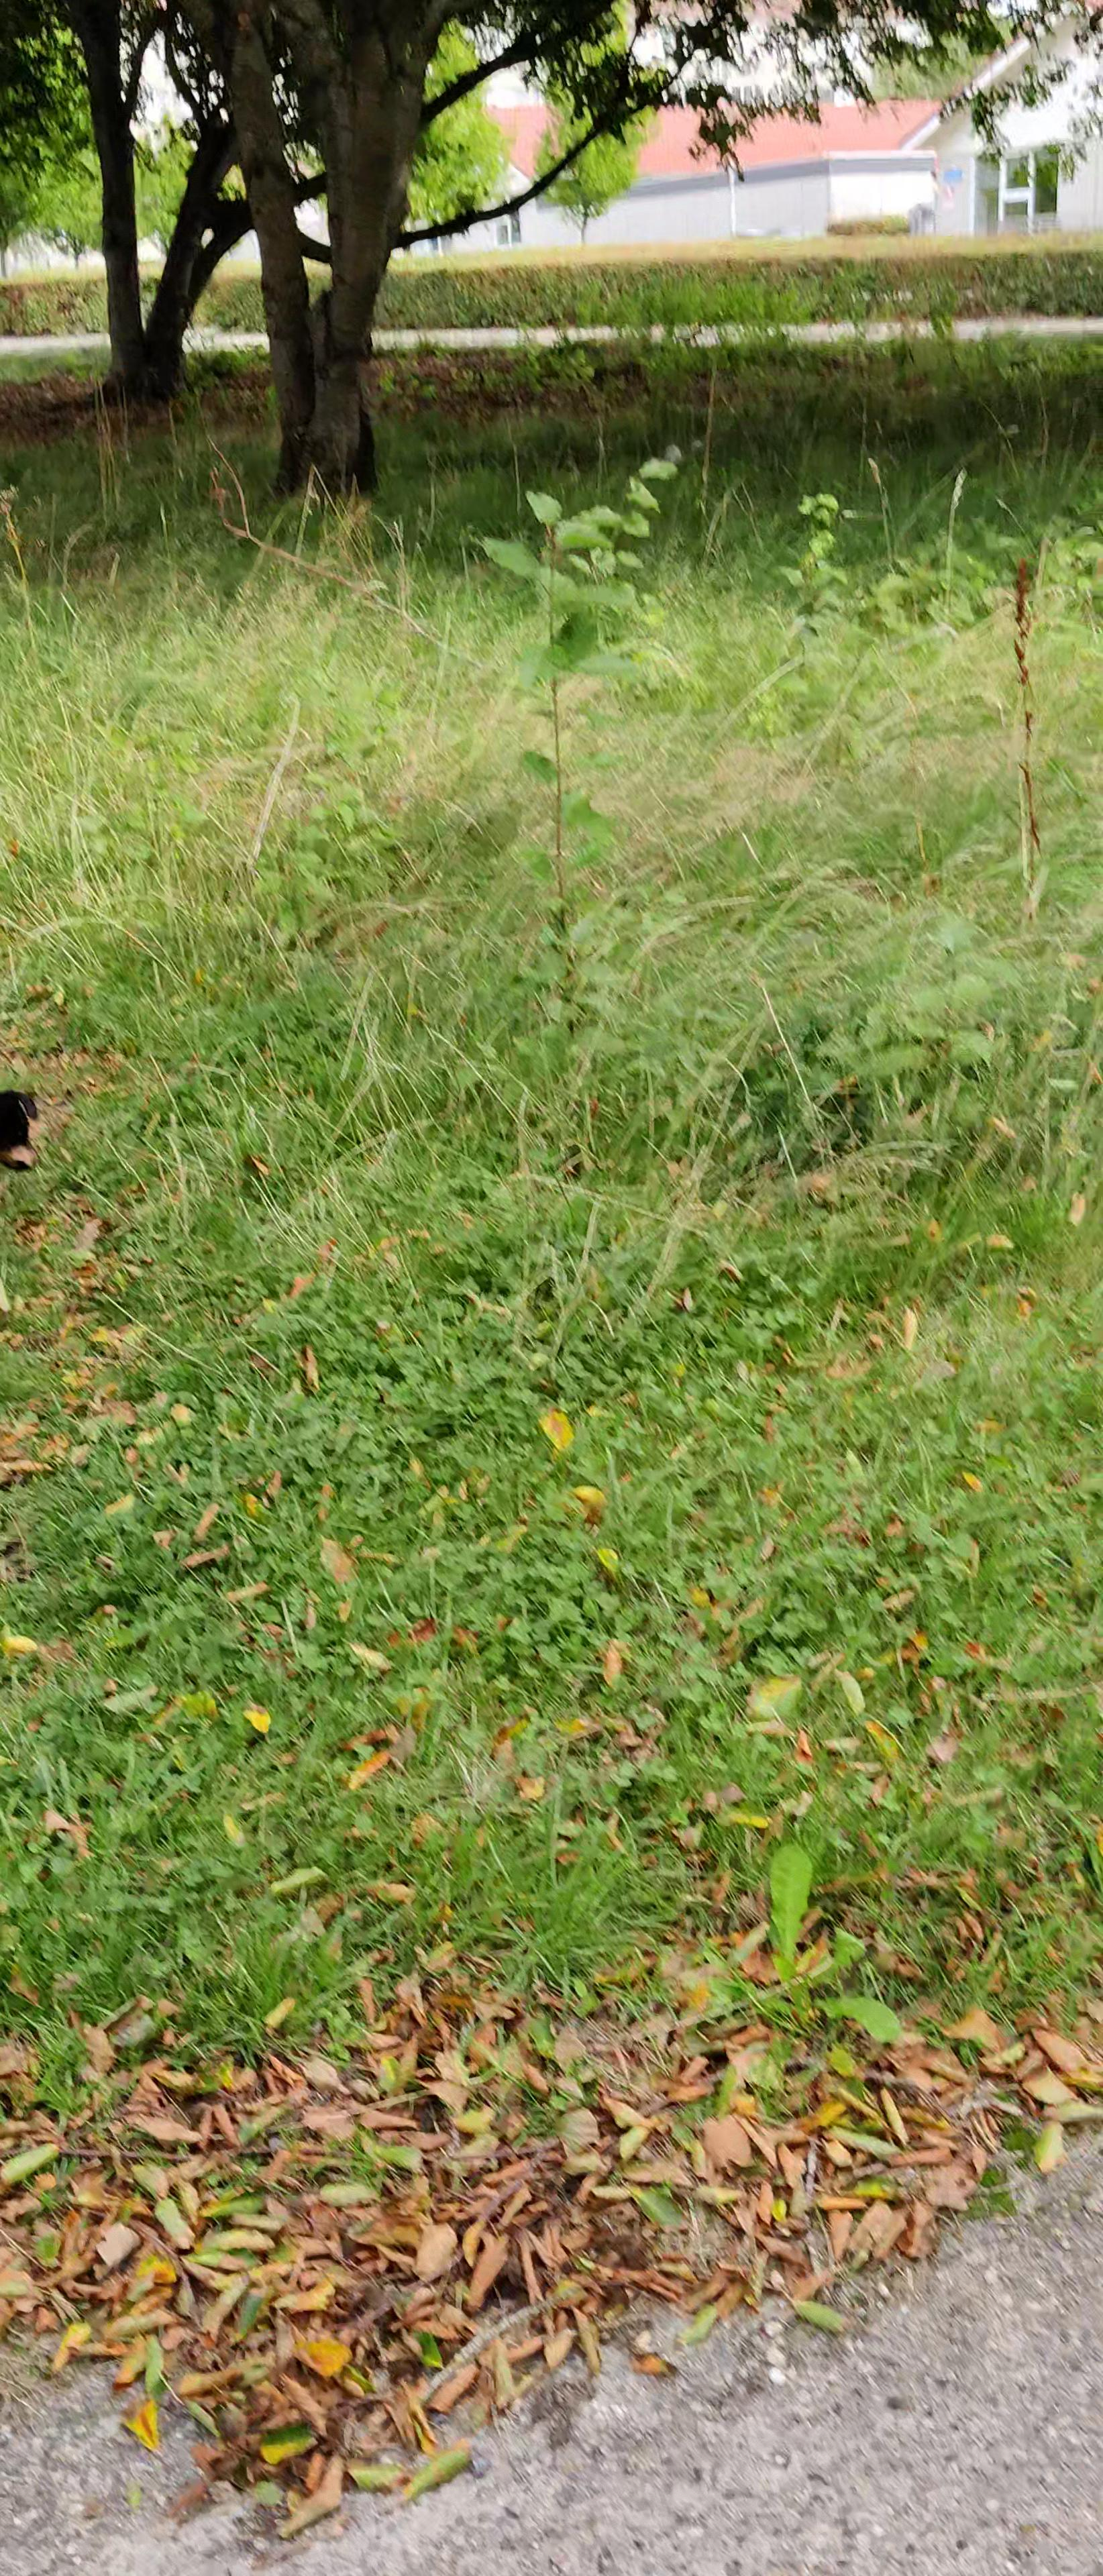Dog: (0, 1081, 44, 1176)
